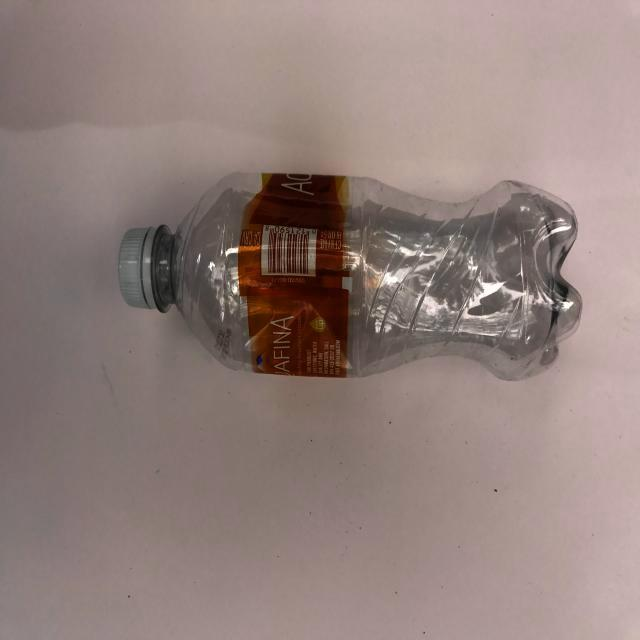plastic: (70, 132, 601, 426)
